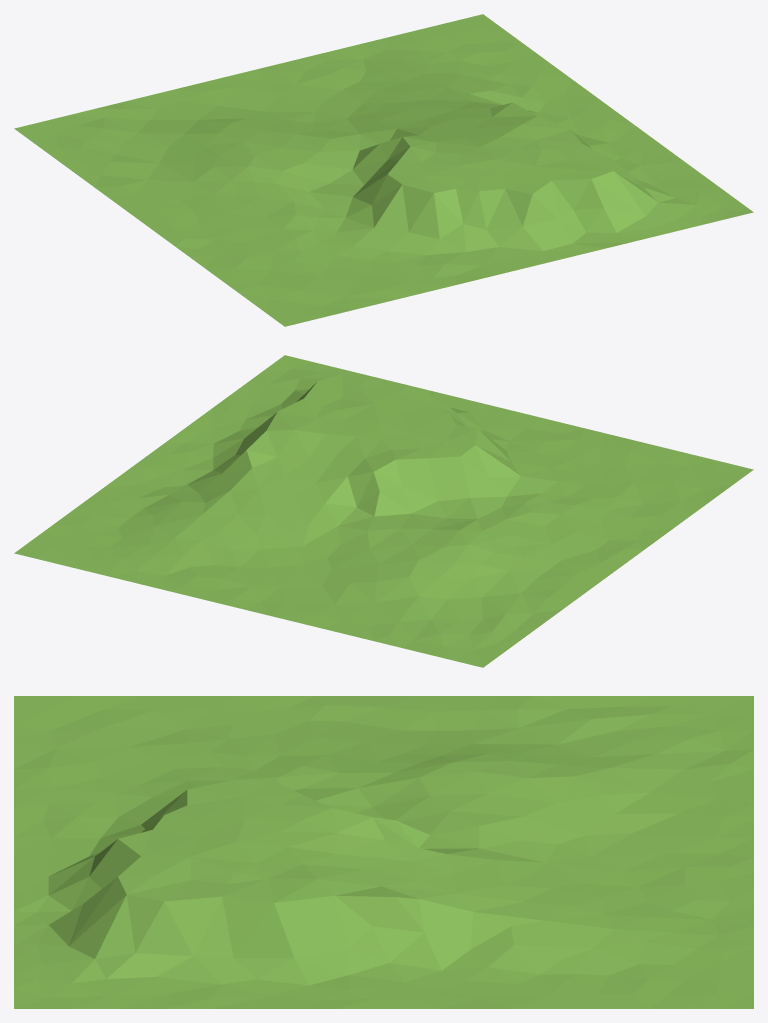
File: MT_Terrain_M_d_14_LOD.fbx
The picture shows the model from 3 angles, top to bottom: view 1: azimuth 30°, elevation 25°; view 2: azimuth 150°, elevation 25°; view 3: azimuth 270°, elevation 25°; orthographic projection. The views are drawn at different scales.
Visible parts, largest first — view 1: MT_Terrain_M_d_14_LOD0; view 2: MT_Terrain_M_d_14_LOD0; view 3: MT_Terrain_M_d_14_LOD0.
Boxes of the visible parts, x1,y1,x2,y2 form: MT_Terrain_M_d_14_LOD0: (14,14,753,326); MT_Terrain_M_d_14_LOD0: (14,355,753,667); MT_Terrain_M_d_14_LOD0: (14,696,753,1008).
Size of what is drawn, in the model's own units: 5000 by 380 by 5000.
